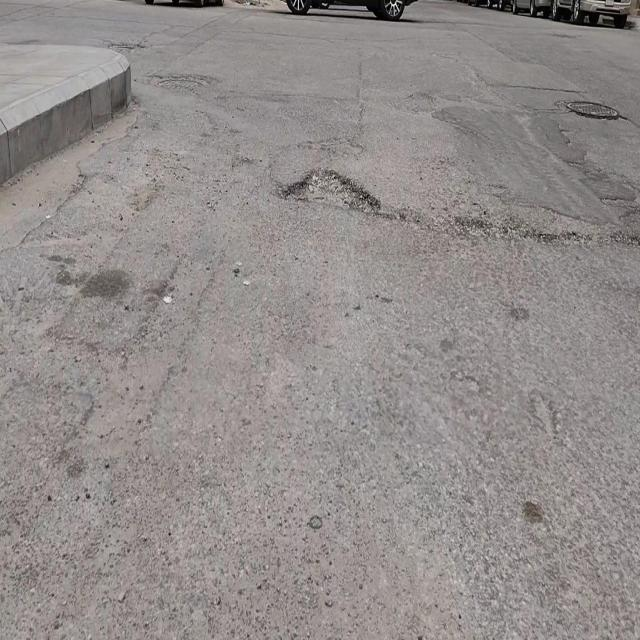Potholes: (288, 170, 374, 213)
